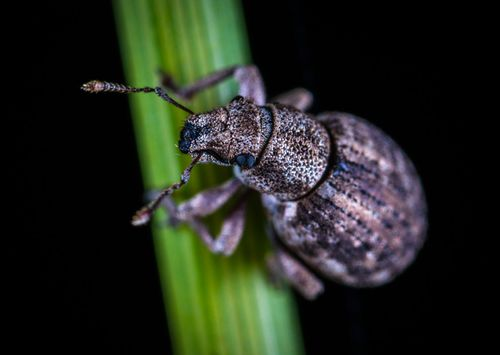Curculionidae: (80, 61, 428, 300)
